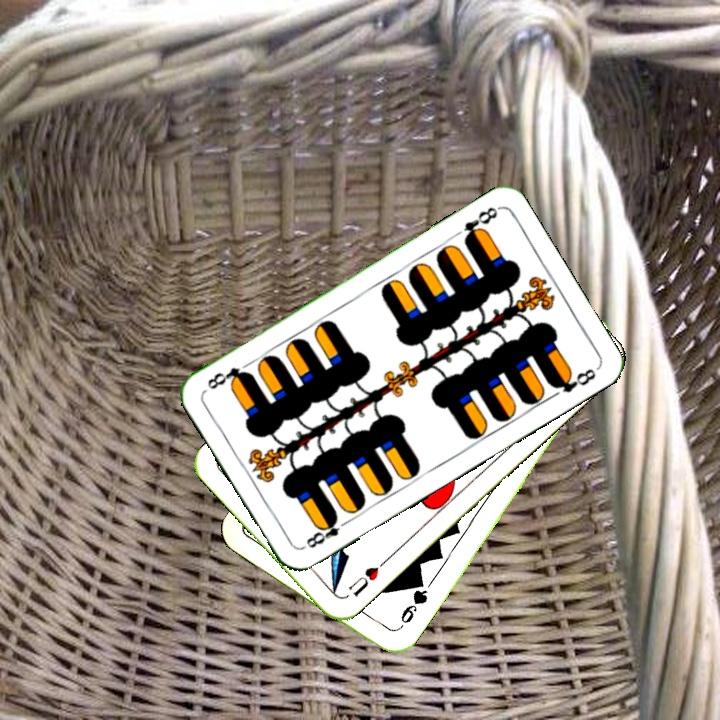E8: (299, 511, 352, 551), (459, 202, 501, 246)
G9: (392, 579, 431, 634)
HU: (344, 555, 390, 600)
